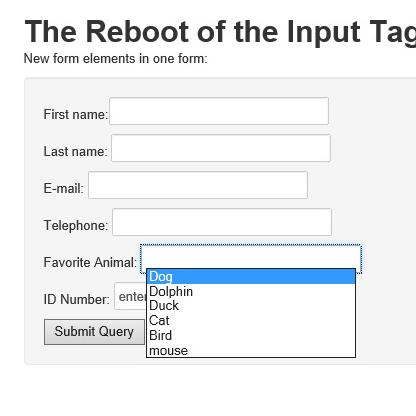button: (42, 316, 146, 346)
field: (106, 132, 333, 164), (104, 95, 329, 126), (107, 206, 332, 237), (84, 170, 307, 198)
field_with_label: (45, 204, 333, 240), (43, 131, 335, 165), (42, 94, 331, 127), (43, 168, 308, 200)
